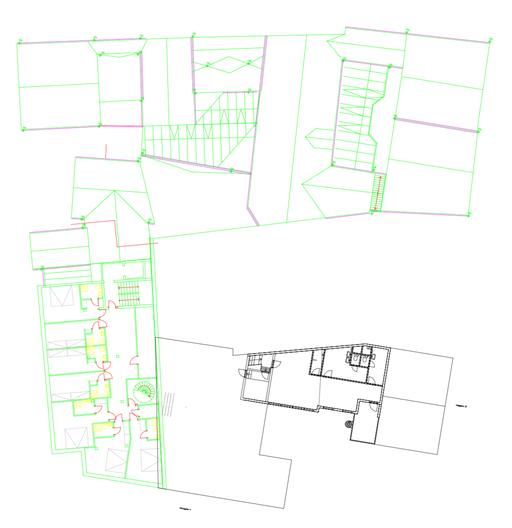room: (52, 398, 109, 449), (85, 419, 131, 478), (41, 283, 106, 324), (44, 319, 106, 350), (49, 371, 105, 402), (47, 347, 107, 375), (135, 306, 157, 379), (127, 378, 158, 405), (85, 328, 106, 347), (90, 380, 111, 399), (86, 345, 107, 363), (80, 283, 103, 299), (73, 399, 96, 415), (93, 422, 114, 438), (146, 418, 160, 440), (138, 404, 159, 418)
